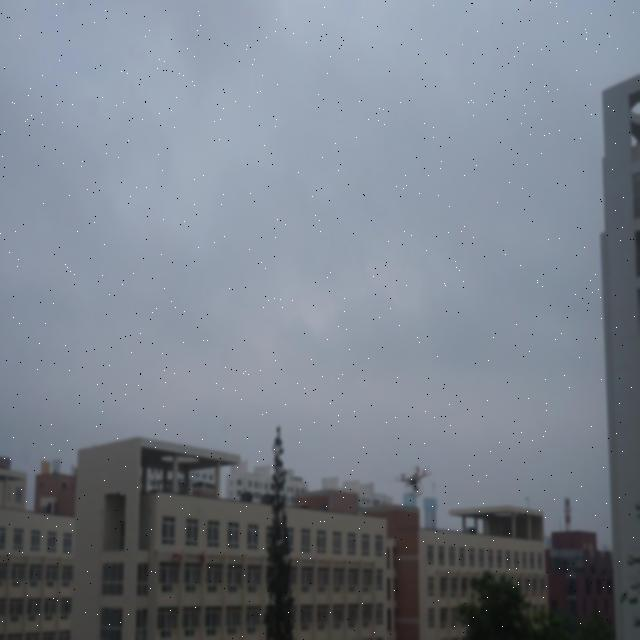UAV: (394, 466, 432, 497)
